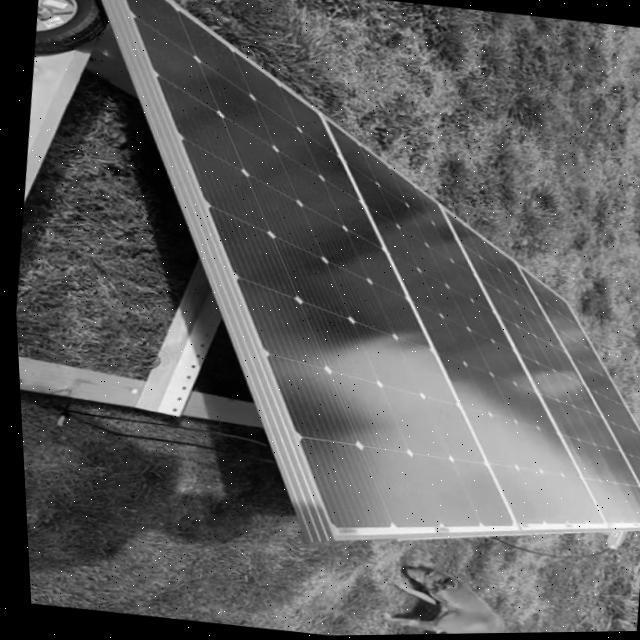Normal Solar Panel: (51, 0, 640, 581)
